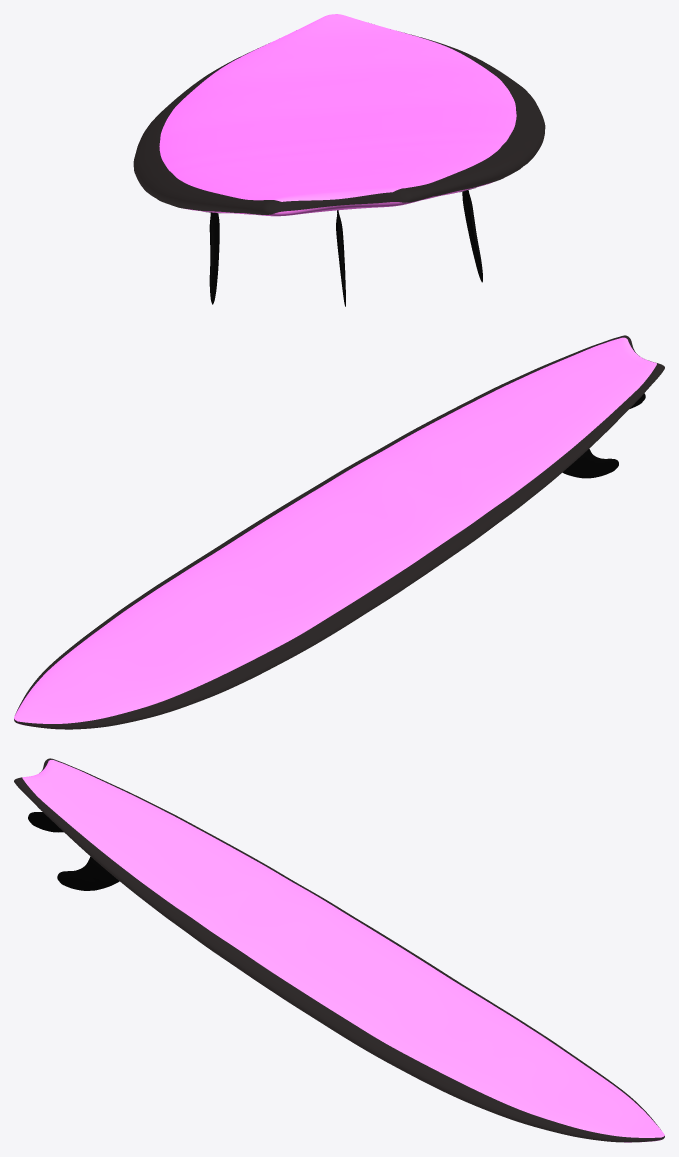
File: surfboard_lucid_sn1-transformed.glb
3 renders of one model, top to bottom at view 1: azimuth 30°, elevation 25°; view 2: azimuth 150°, elevation 25°; view 3: azimuth 270°, elevation 25°, orthographic. The views are drawn at different scales.
Visible parts, largest first — view 1: Object_8, Object_10, Object_16, Object_6; view 2: Object_8, Object_10, Object_16; view 3: Object_8, Object_10, Object_16.
Part boxes in pixels (box(x1,y1,x2,y2)): Object_8: box(159, 14, 516, 201); Object_10: box(133, 32, 545, 214); Object_16: box(209, 190, 482, 306); Object_6: box(184, 182, 493, 216); Object_8: box(14, 337, 656, 723); Object_10: box(14, 335, 664, 729); Object_16: box(562, 393, 645, 478); Object_8: box(22, 760, 664, 1137); Object_10: box(14, 758, 664, 1142); Object_16: box(28, 812, 119, 890).
Size of the model in its own units: 2.48 by 1.48 by 3.89.
